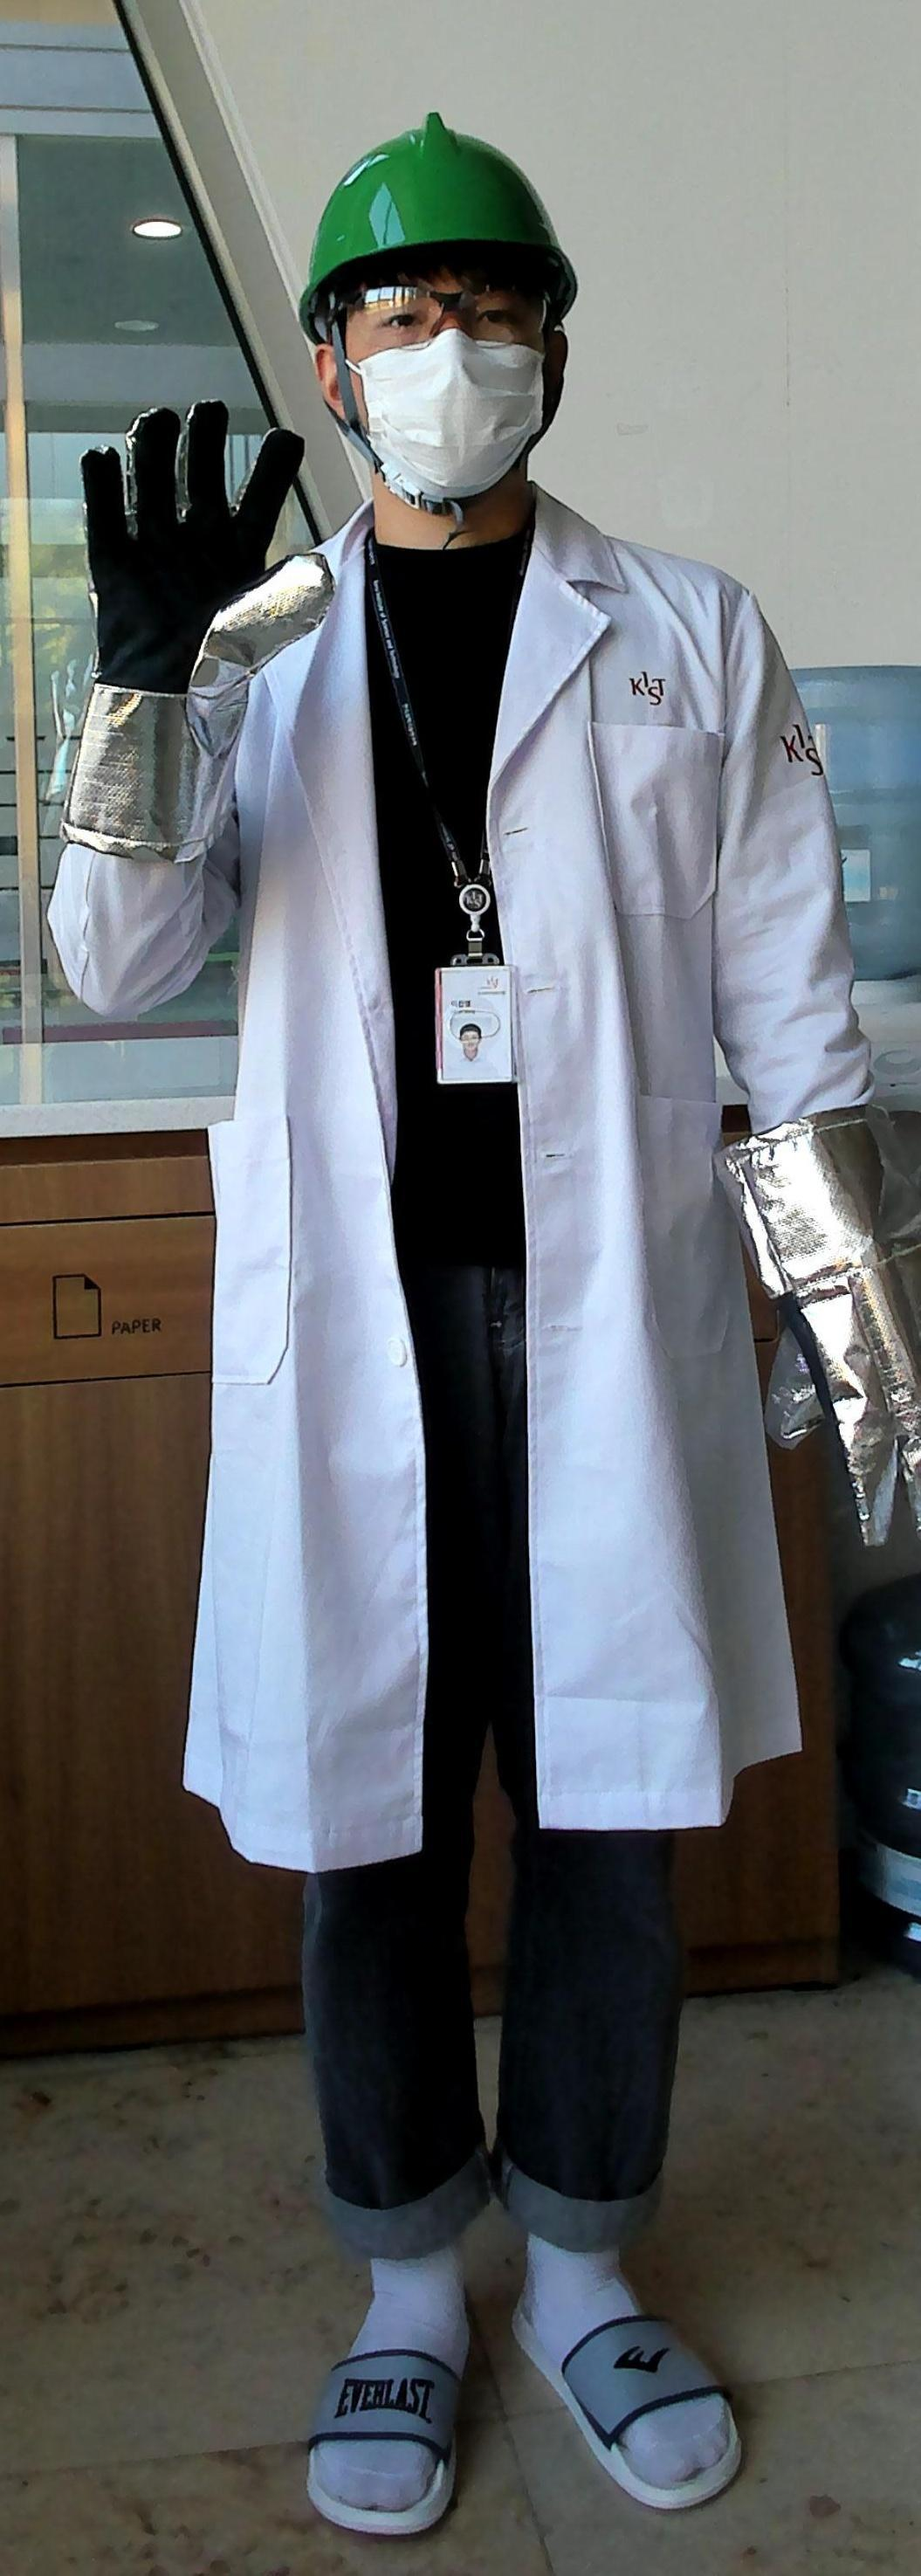lab_coat: (236, 683, 752, 1876)
